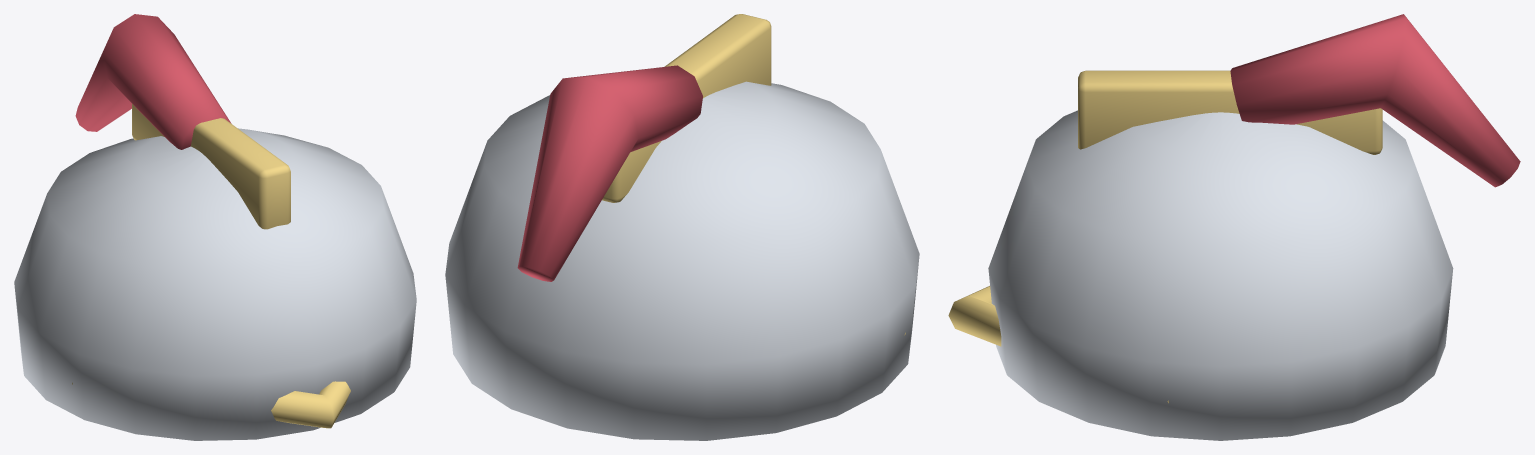
Rendered from helm_knight_visor.glb.
3 renders of one model, left to right at view 1: azimuth 30°, elevation 25°; view 2: azimuth 150°, elevation 25°; view 3: azimuth 270°, elevation 25°, orthographic. The views are drawn at different scales.
Parts seen in each view (by area): view 1: KnightHelmDome, KnightHelmPlume, KnightHelmComb, KnightHelmVisorRim; view 2: KnightHelmDome, KnightHelmPlume, KnightHelmComb; view 3: KnightHelmDome, KnightHelmPlume, KnightHelmComb, KnightHelmVisorRim.
Part boxes in pixels (left/top/right/bottom): KnightHelmDome: left=14, top=128, right=416, bottom=440; KnightHelmPlume: left=75, top=14, right=231, bottom=149; KnightHelmComb: left=132, top=104, right=290, bottom=229; KnightHelmVisorRim: left=72, top=381, right=350, bottom=428; KnightHelmDome: left=445, top=81, right=919, bottom=440; KnightHelmPlume: left=517, top=65, right=702, bottom=281; KnightHelmComb: left=602, top=14, right=771, bottom=202; KnightHelmDome: left=988, top=110, right=1453, bottom=440; KnightHelmPlume: left=1230, top=14, right=1520, bottom=187; KnightHelmComb: left=1078, top=70, right=1382, bottom=154; KnightHelmVisorRim: left=948, top=286, right=1168, bottom=403.
Bounding box in the file's own units: 0.244 × 0.1899 × 0.3003.
